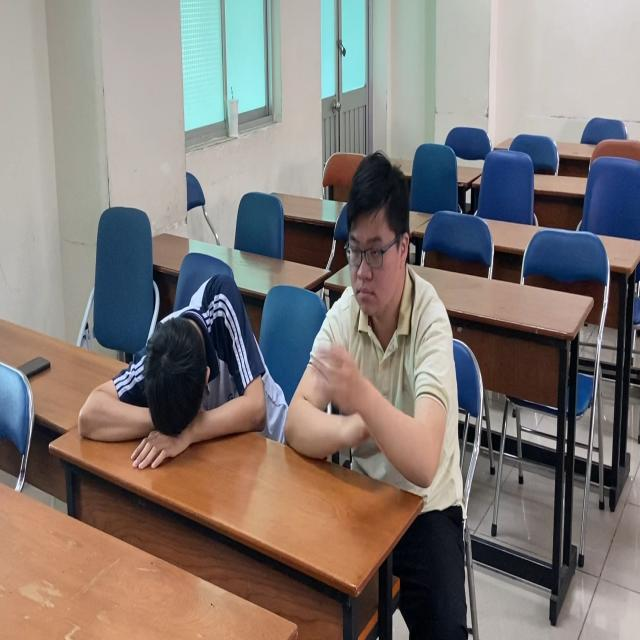sleep: (67, 276, 287, 470)
